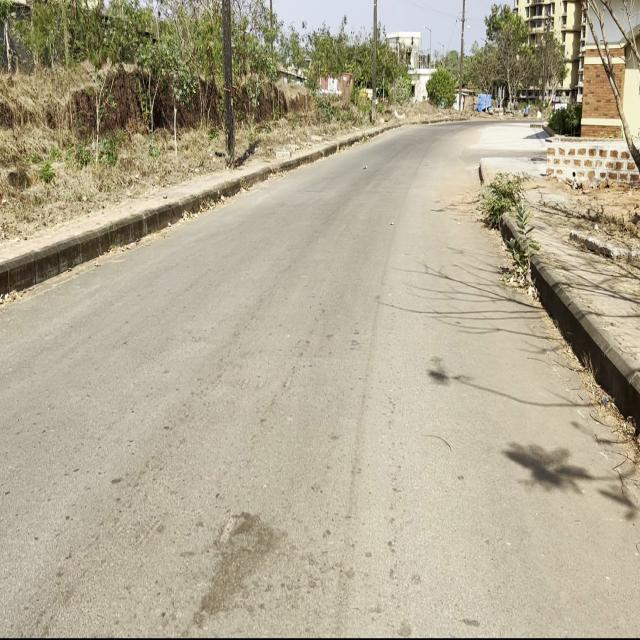Road: (0, 127, 640, 638)
